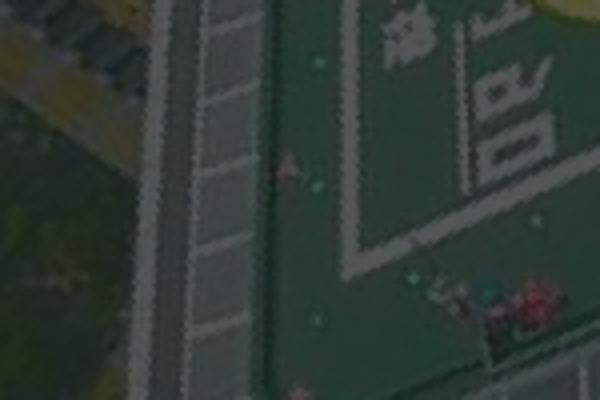Apron: (538, 1, 600, 26)
